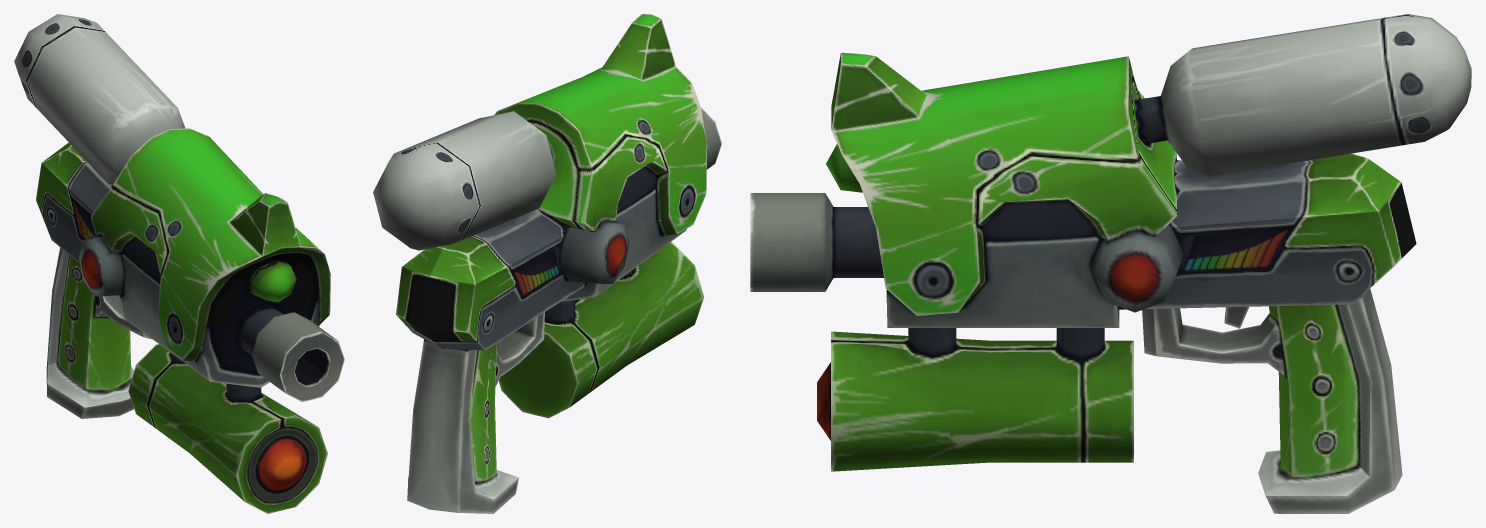
The model's file is gun_3.fbx.
The picture shows the model from 3 angles, left to right: view 1: azimuth 30°, elevation 25°; view 2: azimuth 150°, elevation 25°; view 3: azimuth 270°, elevation 25°; orthographic projection. The views are drawn at different scales.
Parts seen in each view (by area): view 1: gun_3; view 2: gun_3; view 3: gun_3.
Part boxes in pixels (box(x1,y1,x2,y2)): gun_3: box(14, 14, 344, 513); gun_3: box(373, 14, 721, 513); gun_3: box(750, 14, 1471, 513).
Bounding box in the file's own units: 4.74 × 9.8 × 13.36.
1 material, 1 textured.
